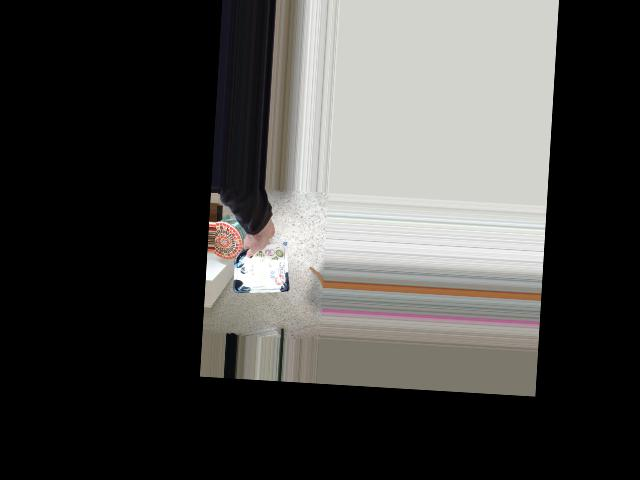cheese: (232, 220, 291, 284)
